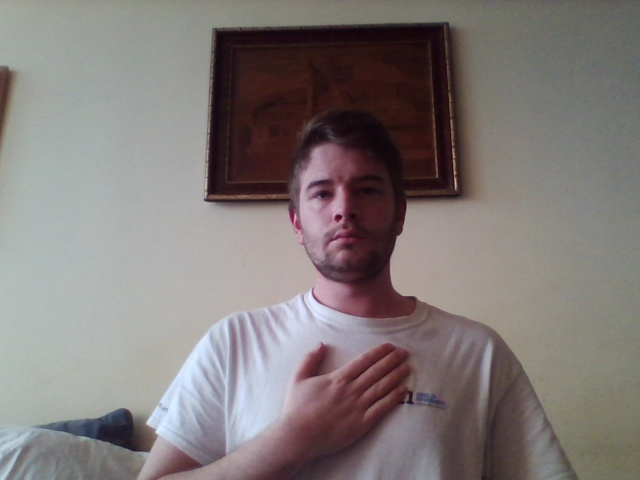molimte: (282, 338, 414, 460)
